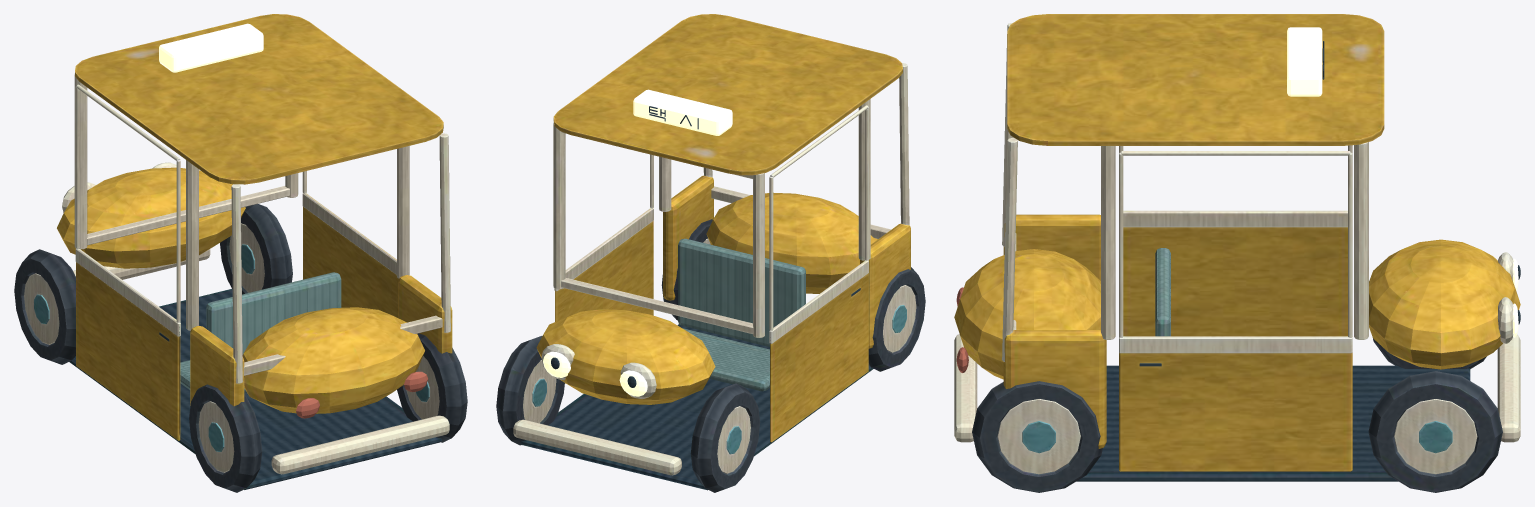
The model's file is taxi_island.glb.
3 views of the same model, side by side, from view 1: azimuth 30°, elevation 25°; view 2: azimuth 150°, elevation 25°; view 3: azimuth 270°, elevation 25° (orthographic). The views are drawn at different scales.
Bounding box in the file's own units: 1.71 × 2.4 × 3.2.
3 materials, 1 textured.
